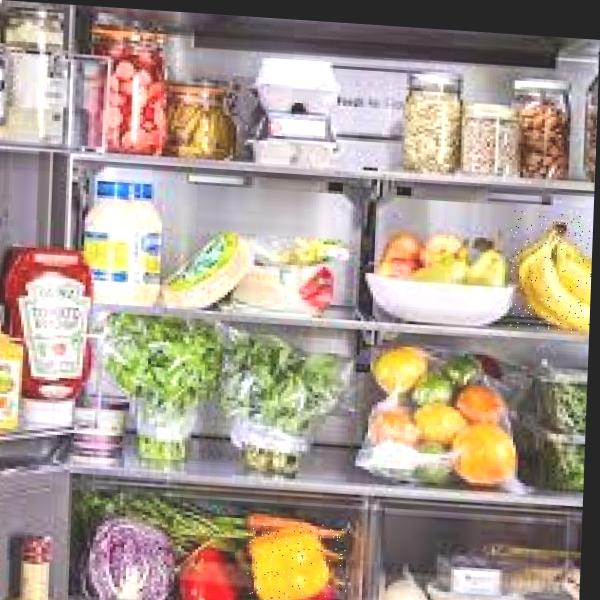banana: (507, 211, 593, 334)
peppers: (244, 520, 351, 600)
